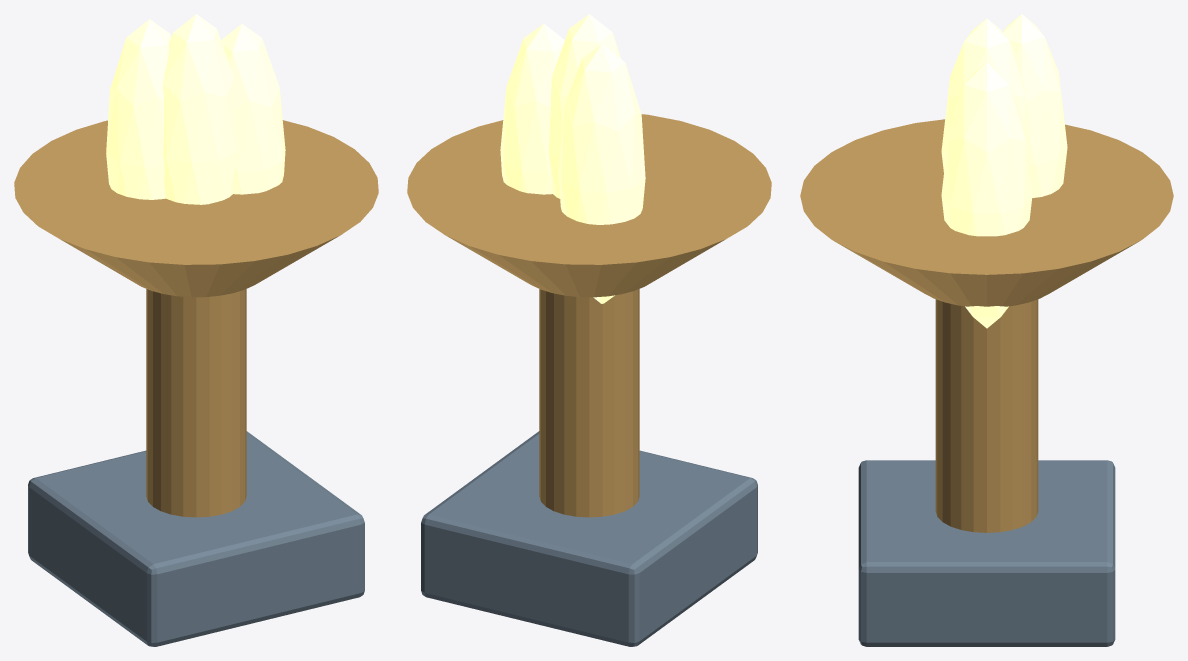
File: SM_Brazier.fbx
3 views of the same model, side by side, from view 1: azimuth 30°, elevation 25°; view 2: azimuth 150°, elevation 25°; view 3: azimuth 270°, elevation 25° (orthographic). The views are drawn at different scales.
Parts seen in each view (by area): view 1: SM_Brazier; view 2: SM_Brazier; view 3: SM_Brazier.
Part boxes in pixels (x1,y1,x2,y2): SM_Brazier: (14,14,378,646); SM_Brazier: (407,14,771,646); SM_Brazier: (800,14,1173,646).
Bounding box in the file's own units: 160 × 160 × 273.
